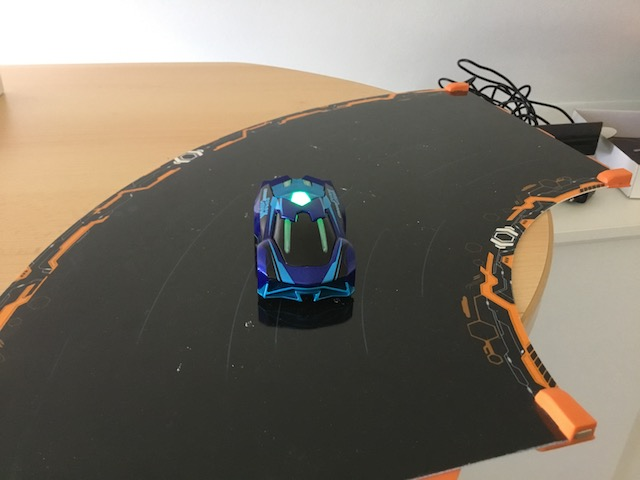car-blue: (247, 170, 360, 308)
